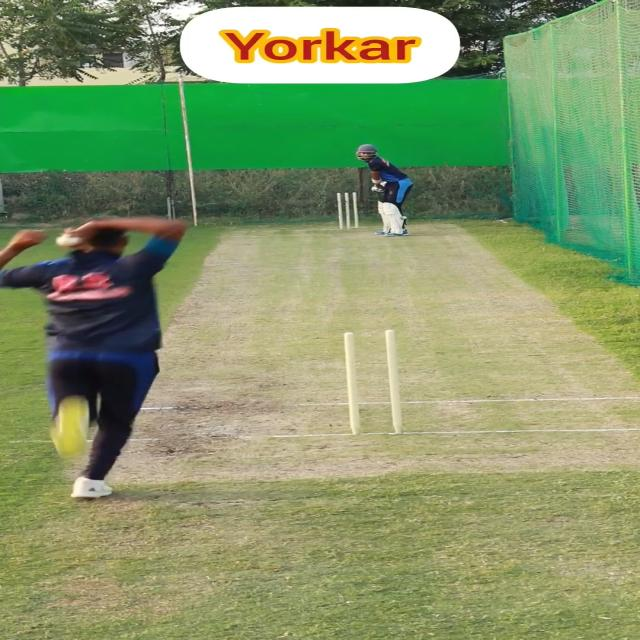stump: (341, 330, 405, 435), (334, 192, 360, 230)
